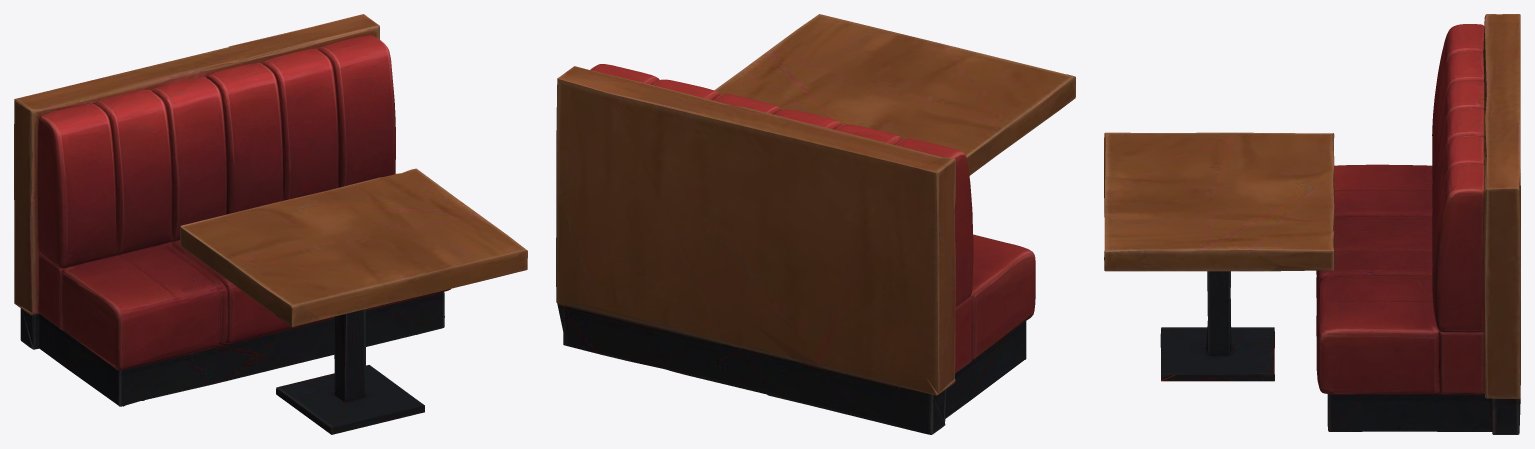
File: booth.glb
The picture shows the model from 3 angles, left to right: view 1: azimuth 30°, elevation 25°; view 2: azimuth 150°, elevation 25°; view 3: azimuth 270°, elevation 25°; orthographic projection. The views are drawn at different scales.
Bounding box in the file's own units: 1.89 × 1.27 × 1.9.
Materials: 1 (1 with a texture image).
